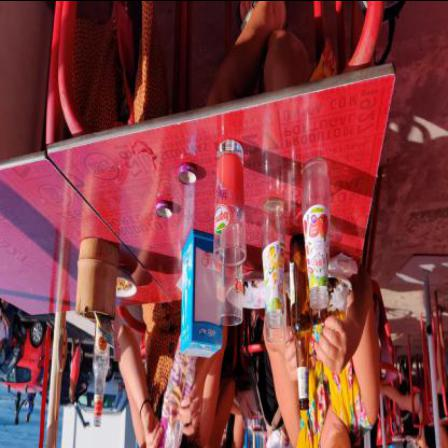Bottle: (303, 158, 332, 310), (291, 234, 315, 412), (262, 198, 286, 329), (94, 322, 112, 426)
Bottle cap: (179, 164, 198, 186), (156, 201, 173, 220)
Cup: (214, 139, 247, 269), (218, 264, 244, 326), (265, 273, 287, 345)
Paper: (196, 247, 222, 327), (330, 254, 359, 279), (330, 286, 348, 314)
Plastic bag - wrapper: (159, 333, 202, 448), (94, 313, 122, 363)
